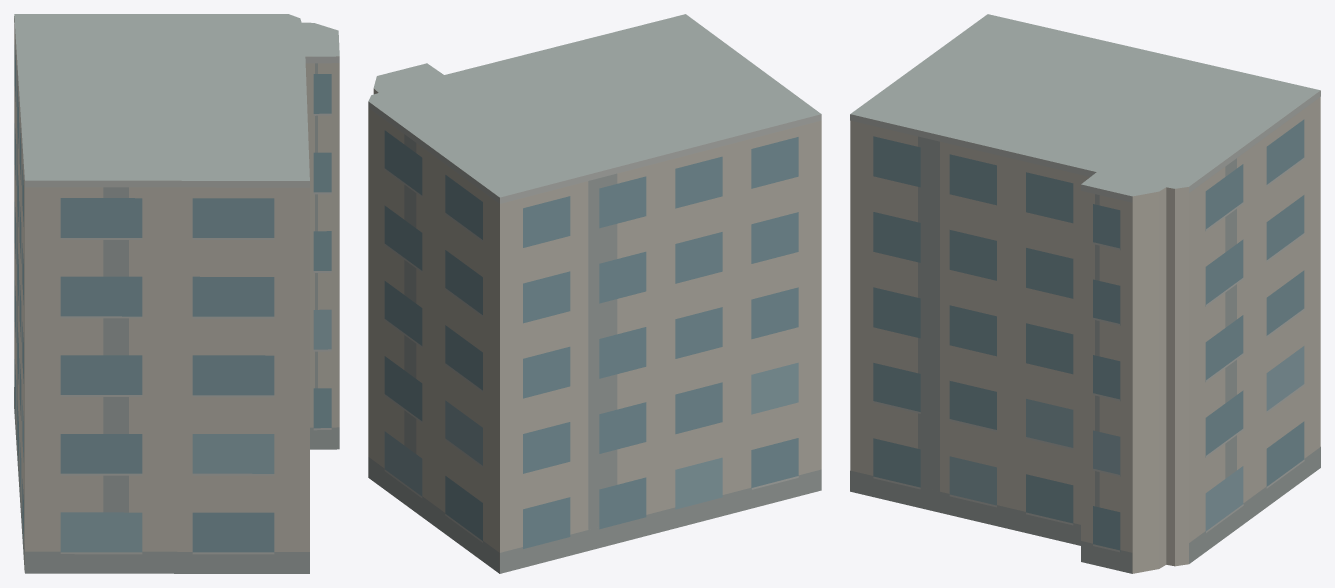
Rendered from survey-upis-32707411.glb.
3 renders of one model, left to right at view 1: azimuth 30°, elevation 25°; view 2: azimuth 150°, elevation 25°; view 3: azimuth 270°, elevation 25°, orthographic. The views are drawn at different scales.
Visible parts, largest first — view 1: survey-upis-32707411.tmp; view 2: survey-upis-32707411.tmp; view 3: survey-upis-32707411.tmp.
Boxes of the visible parts, x1,y1,x2,y2 form: survey-upis-32707411.tmp: [14, 14, 339, 573]; survey-upis-32707411.tmp: [368, 14, 821, 573]; survey-upis-32707411.tmp: [850, 14, 1320, 573].
Size of the model in its own units: 14.93 by 14.4 by 16.28.
